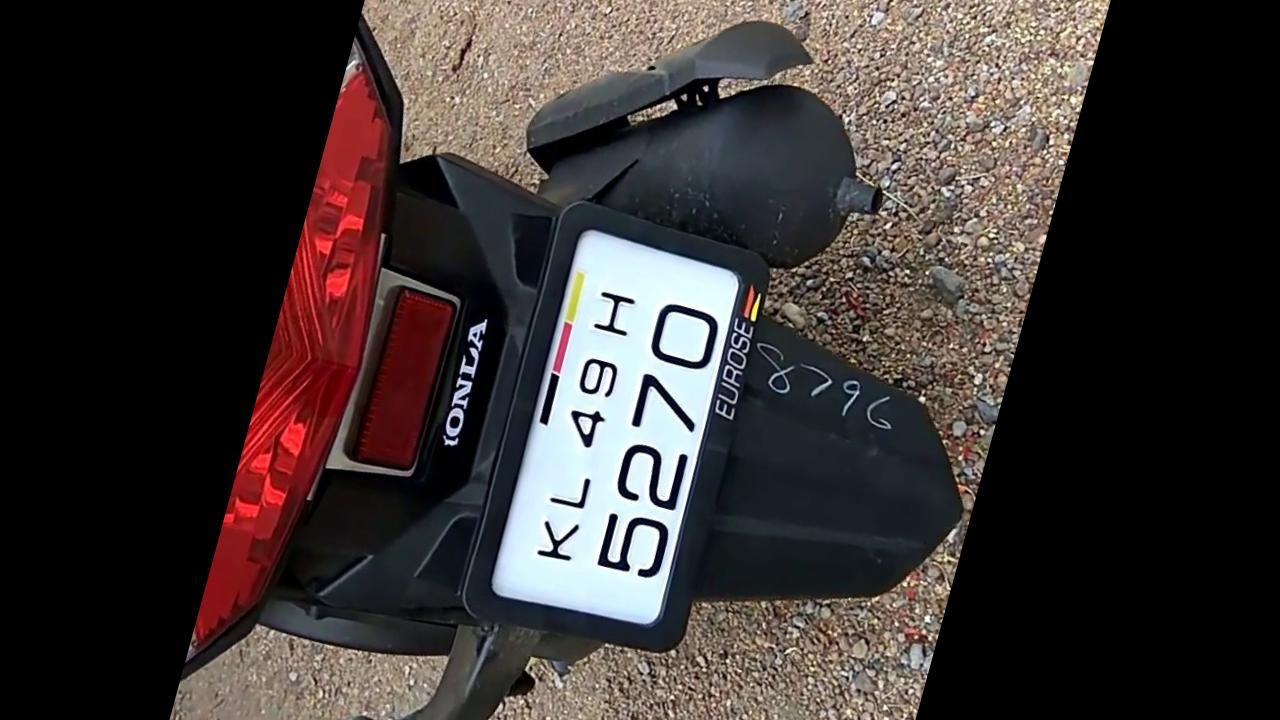plate: (457, 198, 789, 656)
